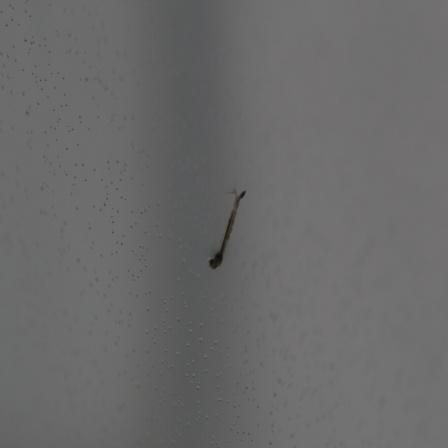Jentik-Nyamuk: (206, 184, 248, 271)
